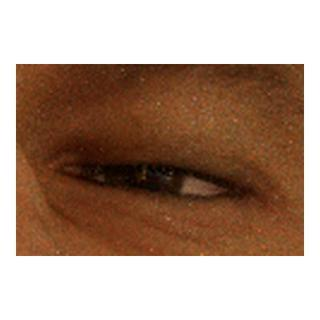pupil: (128, 157, 160, 189)
